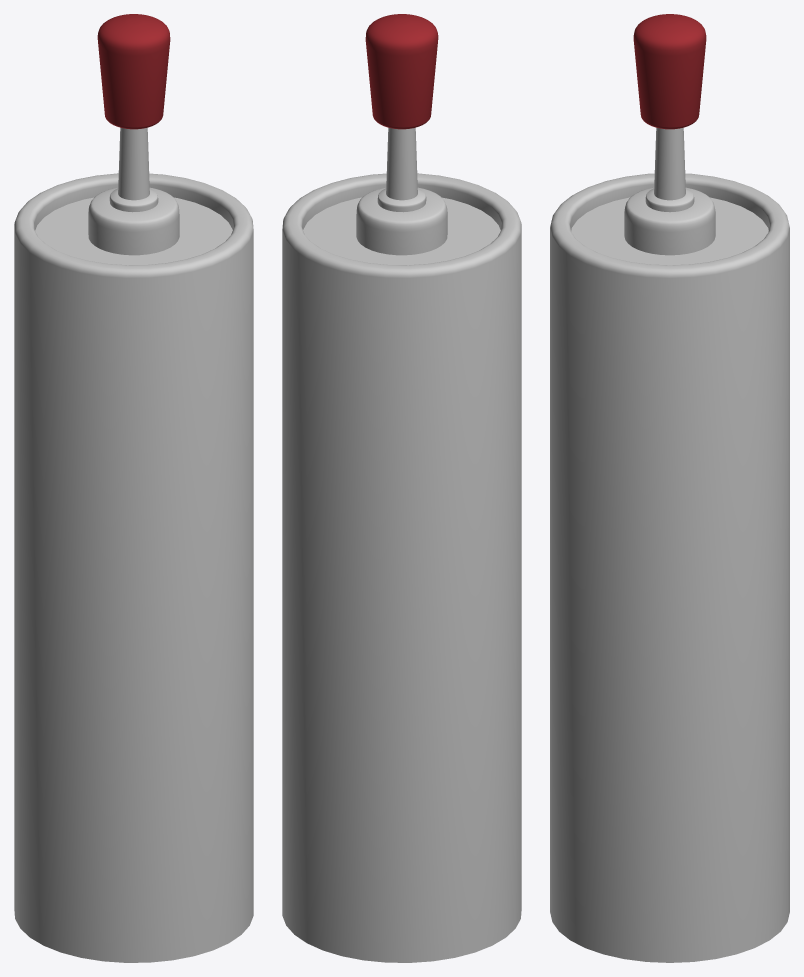
The model's file is kol.fbx.
The picture shows the model from 3 angles, left to right: view 1: azimuth 30°, elevation 25°; view 2: azimuth 150°, elevation 25°; view 3: azimuth 270°, elevation 25°; orthographic projection.
Visible parts, largest first — view 1: Circle.001, Circle, Cylinder, Cylinder.001; view 2: Circle.001, Circle, Cylinder, Cylinder.001; view 3: Circle.001, Circle, Cylinder, Cylinder.001.
Boxes of the visible parts, x1=… form: Circle.001: x1=14, y1=173, x2=253, y2=962; Circle: x1=97, y1=14, x2=170, y2=129; Cylinder: x1=88, y1=187, x2=179, y2=255; Cylinder.001: x1=118, y1=127, x2=149, y2=200; Circle.001: x1=282, y1=173, x2=521, y2=962; Circle: x1=365, y1=14, x2=438, y2=129; Cylinder: x1=356, y1=187, x2=447, y2=255; Cylinder.001: x1=386, y1=127, x2=417, y2=200; Circle.001: x1=550, y1=173, x2=789, y2=962; Circle: x1=633, y1=14, x2=706, y2=129; Cylinder: x1=624, y1=187, x2=715, y2=255; Cylinder.001: x1=654, y1=127, x2=685, y2=200.
Size of the model in its own units: 564 by 2313 by 564.
